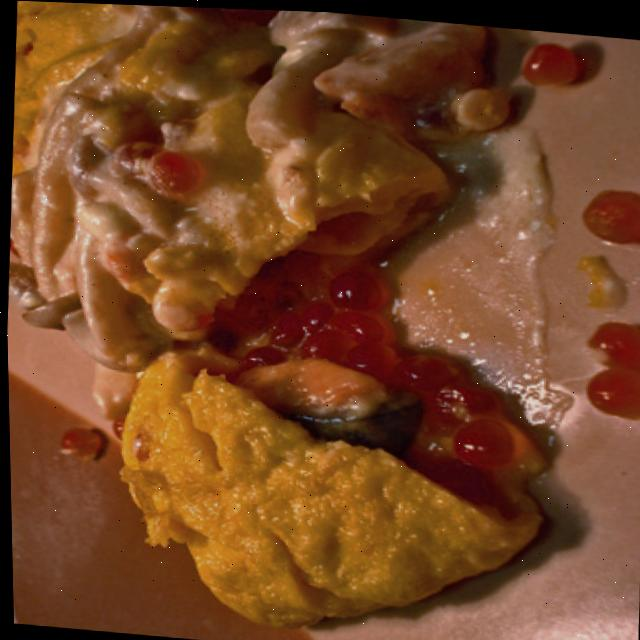鸡蛋料理: (0, 0, 560, 640)
